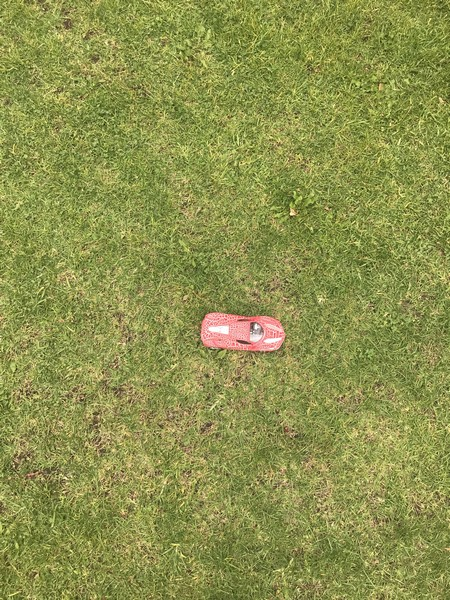RC: (199, 311, 287, 358)
